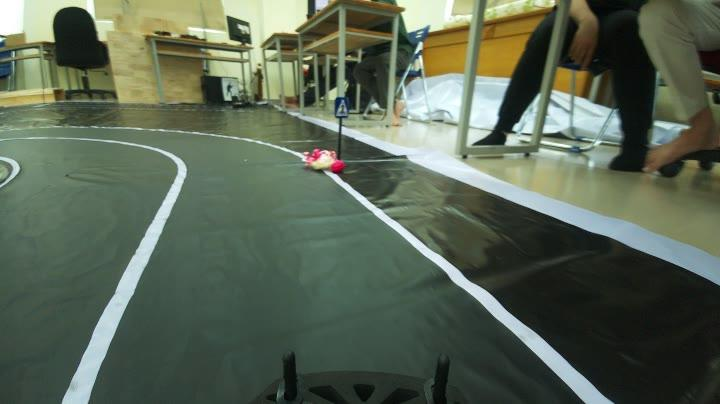crosswalk: (330, 89, 353, 125)
